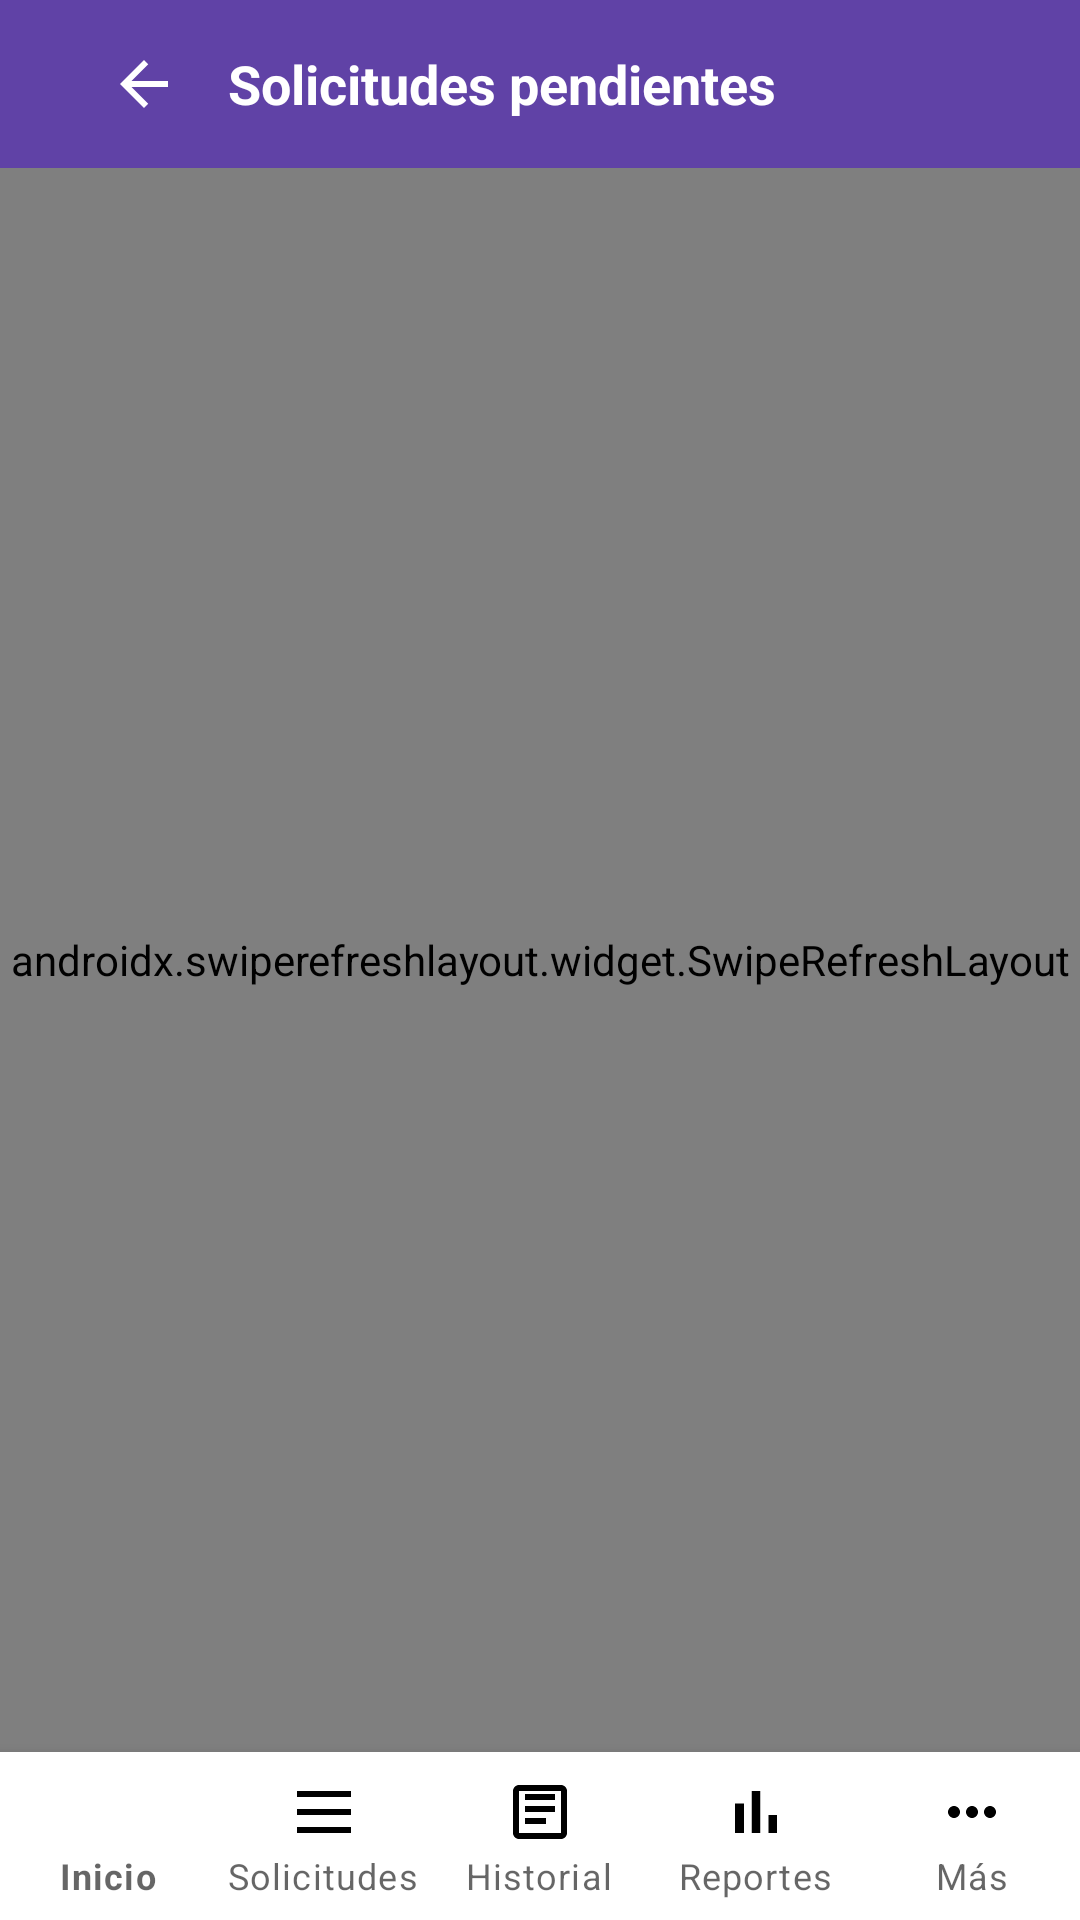

Point at icon controls on the screen. Image size 1080px×1920px, points as (x,y).
Volver: (144,84)
